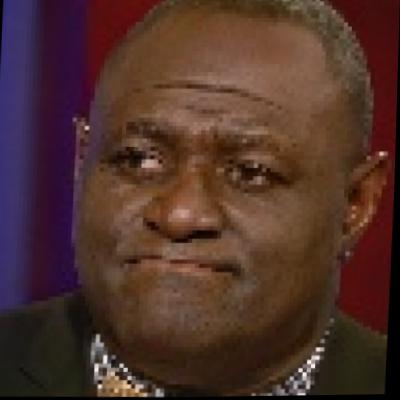sad: (82, 2, 353, 363)
